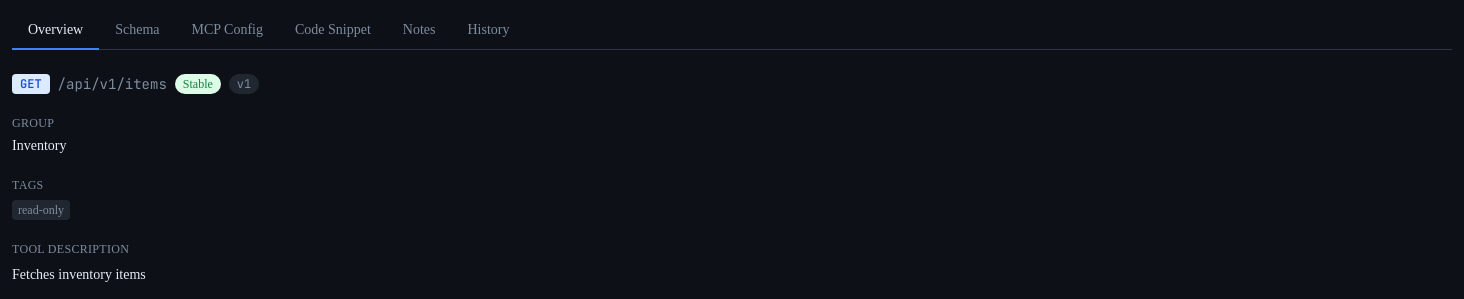
ApiDetailTabs › shows copy button on MCP Config tab
This screenshot has width=1464, height=299.
Click the tab "MCP Config" at coordinates (227, 31), box [176, 12, 279, 50]
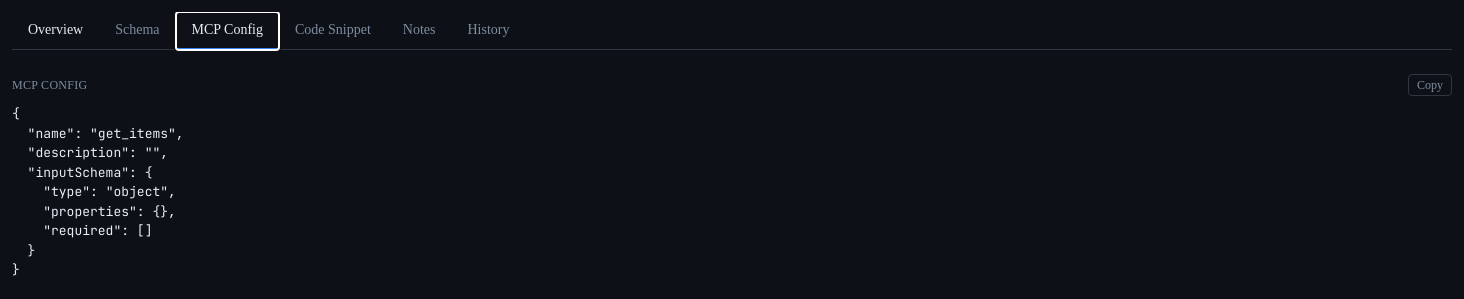
Expected: the button "Copy" is shown, [1408, 74, 1452, 96]
